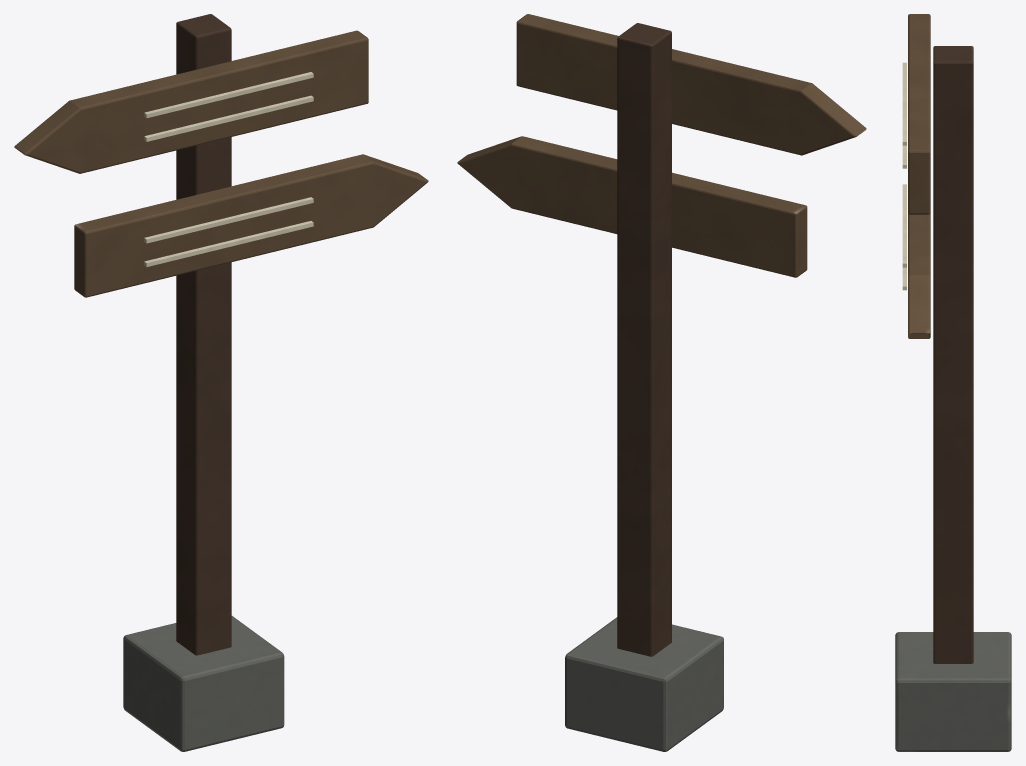
Rendered from Signpost.fbx.
3 views of the same model, side by side, from view 1: azimuth 30°, elevation 25°; view 2: azimuth 150°, elevation 25°; view 3: azimuth 270°, elevation 25° (orthographic). The views are drawn at different scales.
Parts seen in each view (by area): view 1: Signpost.001; view 2: Signpost.001; view 3: Signpost.001.
Part boxes in pixels (x1,y1,x2,y2): Signpost.001: (14,14,428,751); Signpost.001: (457,14,866,751); Signpost.001: (895,14,1011,751).
Size of the model in its own units: 1.79 by 2.94 by 0.46.
